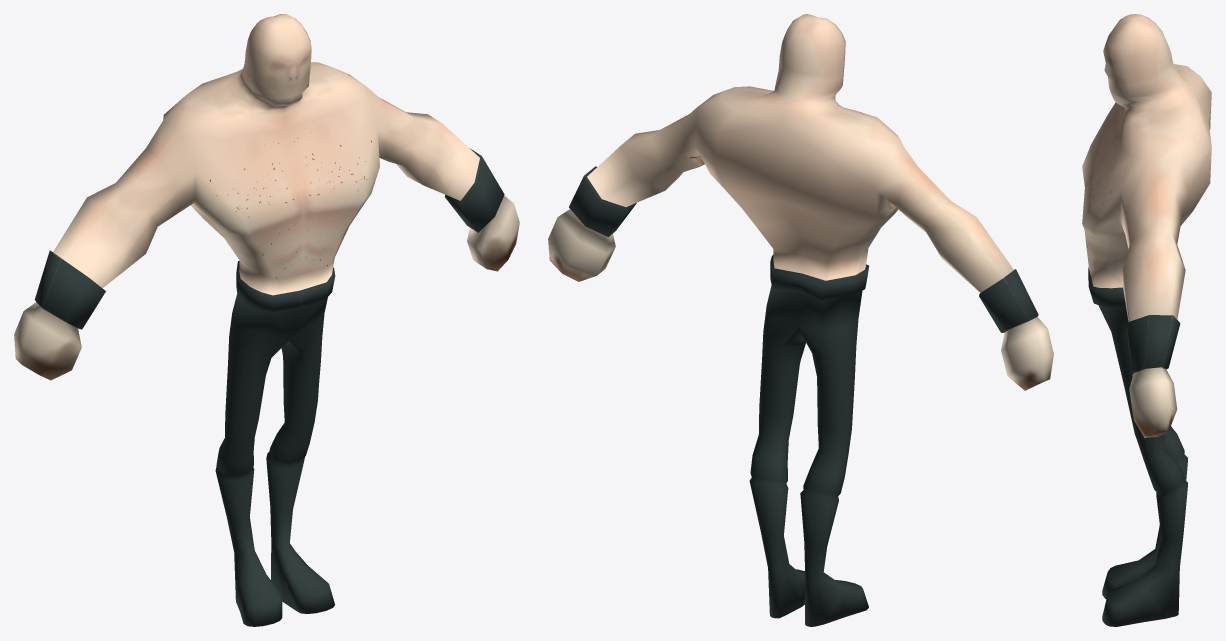
File: Caretaker.fbx
The picture shows the model from 3 angles, left to right: view 1: azimuth 30°, elevation 25°; view 2: azimuth 150°, elevation 25°; view 3: azimuth 270°, elevation 25°; orthographic projection.
Parts seen in each view (by area): view 1: Plane; view 2: Plane; view 3: Plane.
Boxes of the visible parts, <box> form: Plane: <box>14,14,519,626</box>; Plane: <box>548,14,1053,626</box>; Plane: <box>1082,14,1211,626</box>.
Bounding box in the file's own units: 193 × 219 × 43.86.
Materials: 1 (1 with a texture image).
